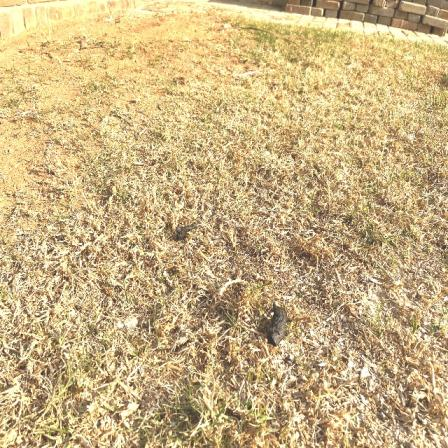dog-poop: (269, 300, 293, 349), (171, 217, 205, 246)
